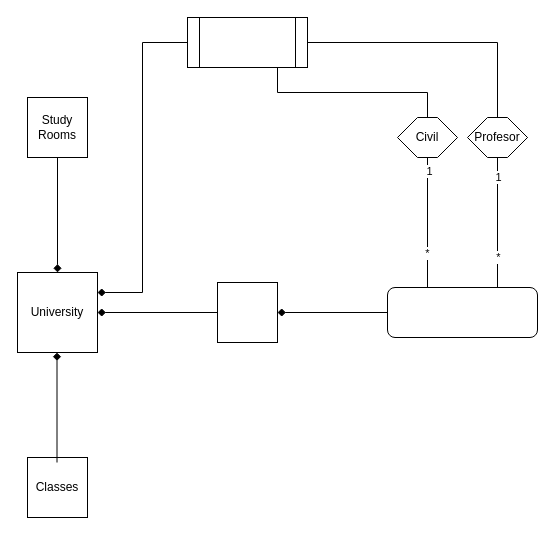
This 555x535 diagram has some shape labels left out. The box of each missing label's shape, as (x1, y1, x2, y2) in pixels:
Deps: (216, 282, 278, 342)
Employees: (186, 16, 308, 68)
Offices: (386, 286, 538, 338)
